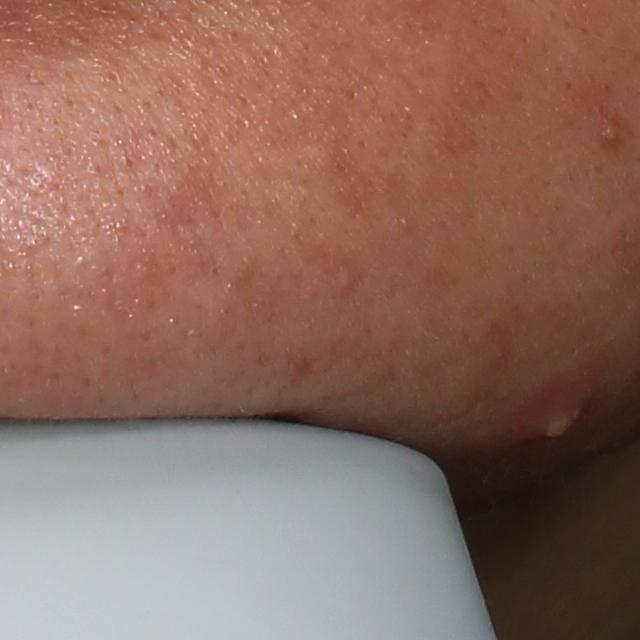pustule: (514, 386, 598, 453), (595, 111, 627, 152)
